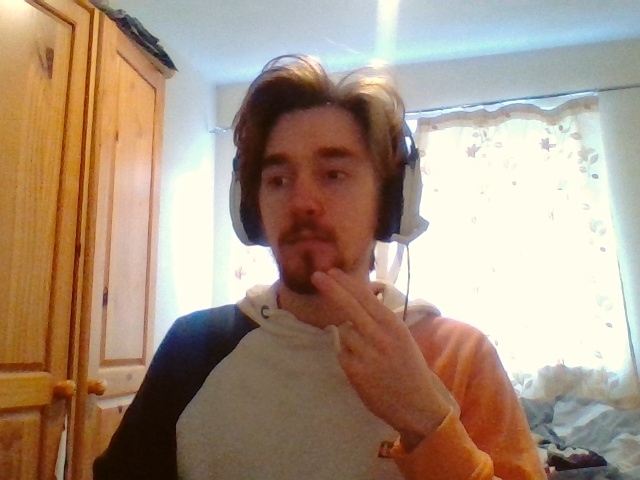afternoon: (309, 268, 420, 403)
